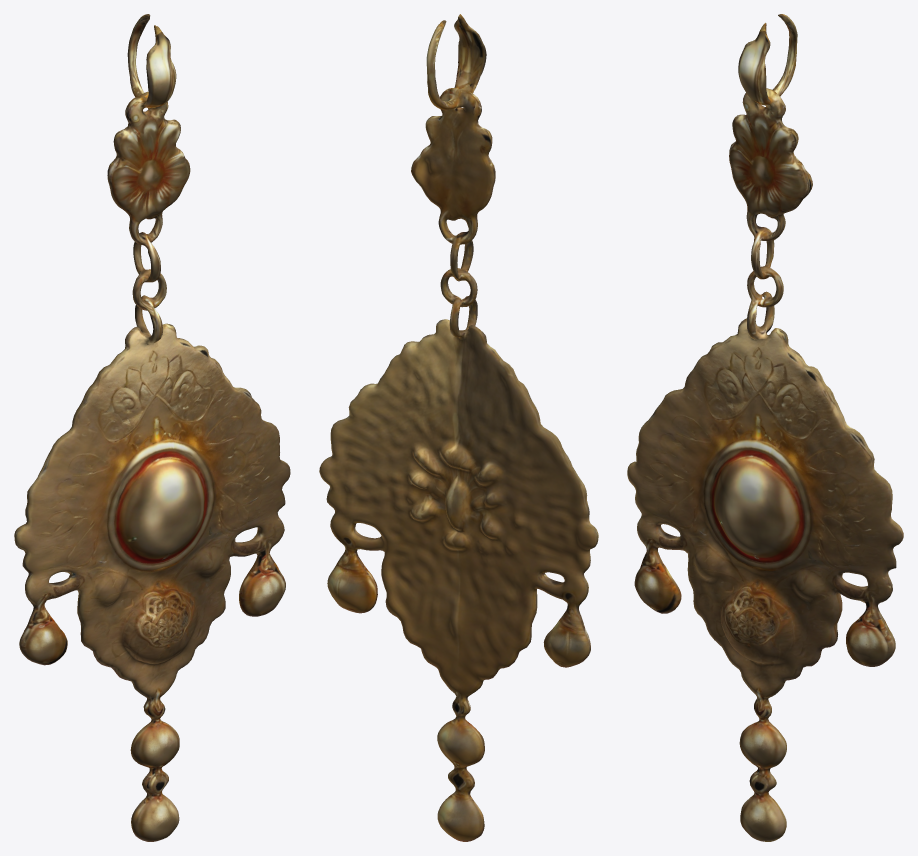
Rendered from jhumka.glb.
The picture shows the model from 3 angles, left to right: view 1: azimuth 30°, elevation 25°; view 2: azimuth 150°, elevation 25°; view 3: azimuth 330°, elevation 25°; orthographic projection.
Parts seen in each view (by area): view 1: Mesh_0; view 2: Mesh_0; view 3: Mesh_0.
Part boxes in pixels (box(x1,y1,x2,y2)): Mesh_0: box(14, 14, 290, 841); Mesh_0: box(319, 14, 598, 841); Mesh_0: box(627, 14, 903, 841).
Bounding box in the file's own units: 0.6998 × 1.99 × 0.1937.
Materials: 1 (1 with a texture image).
